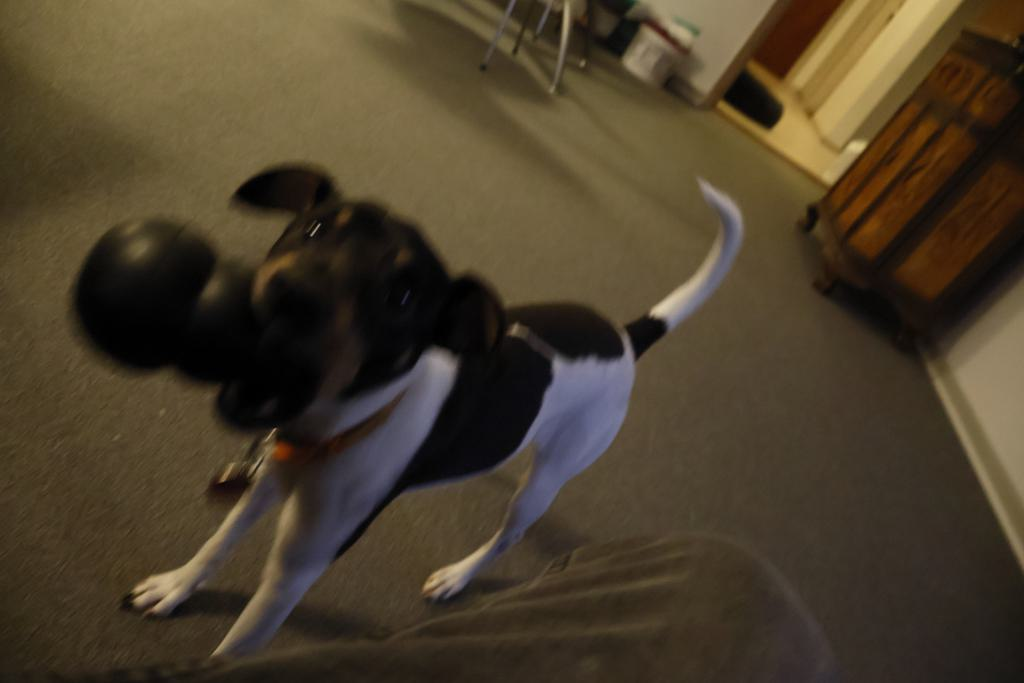Dog: (112, 155, 760, 677)
Humanoid: (0, 511, 859, 683)
